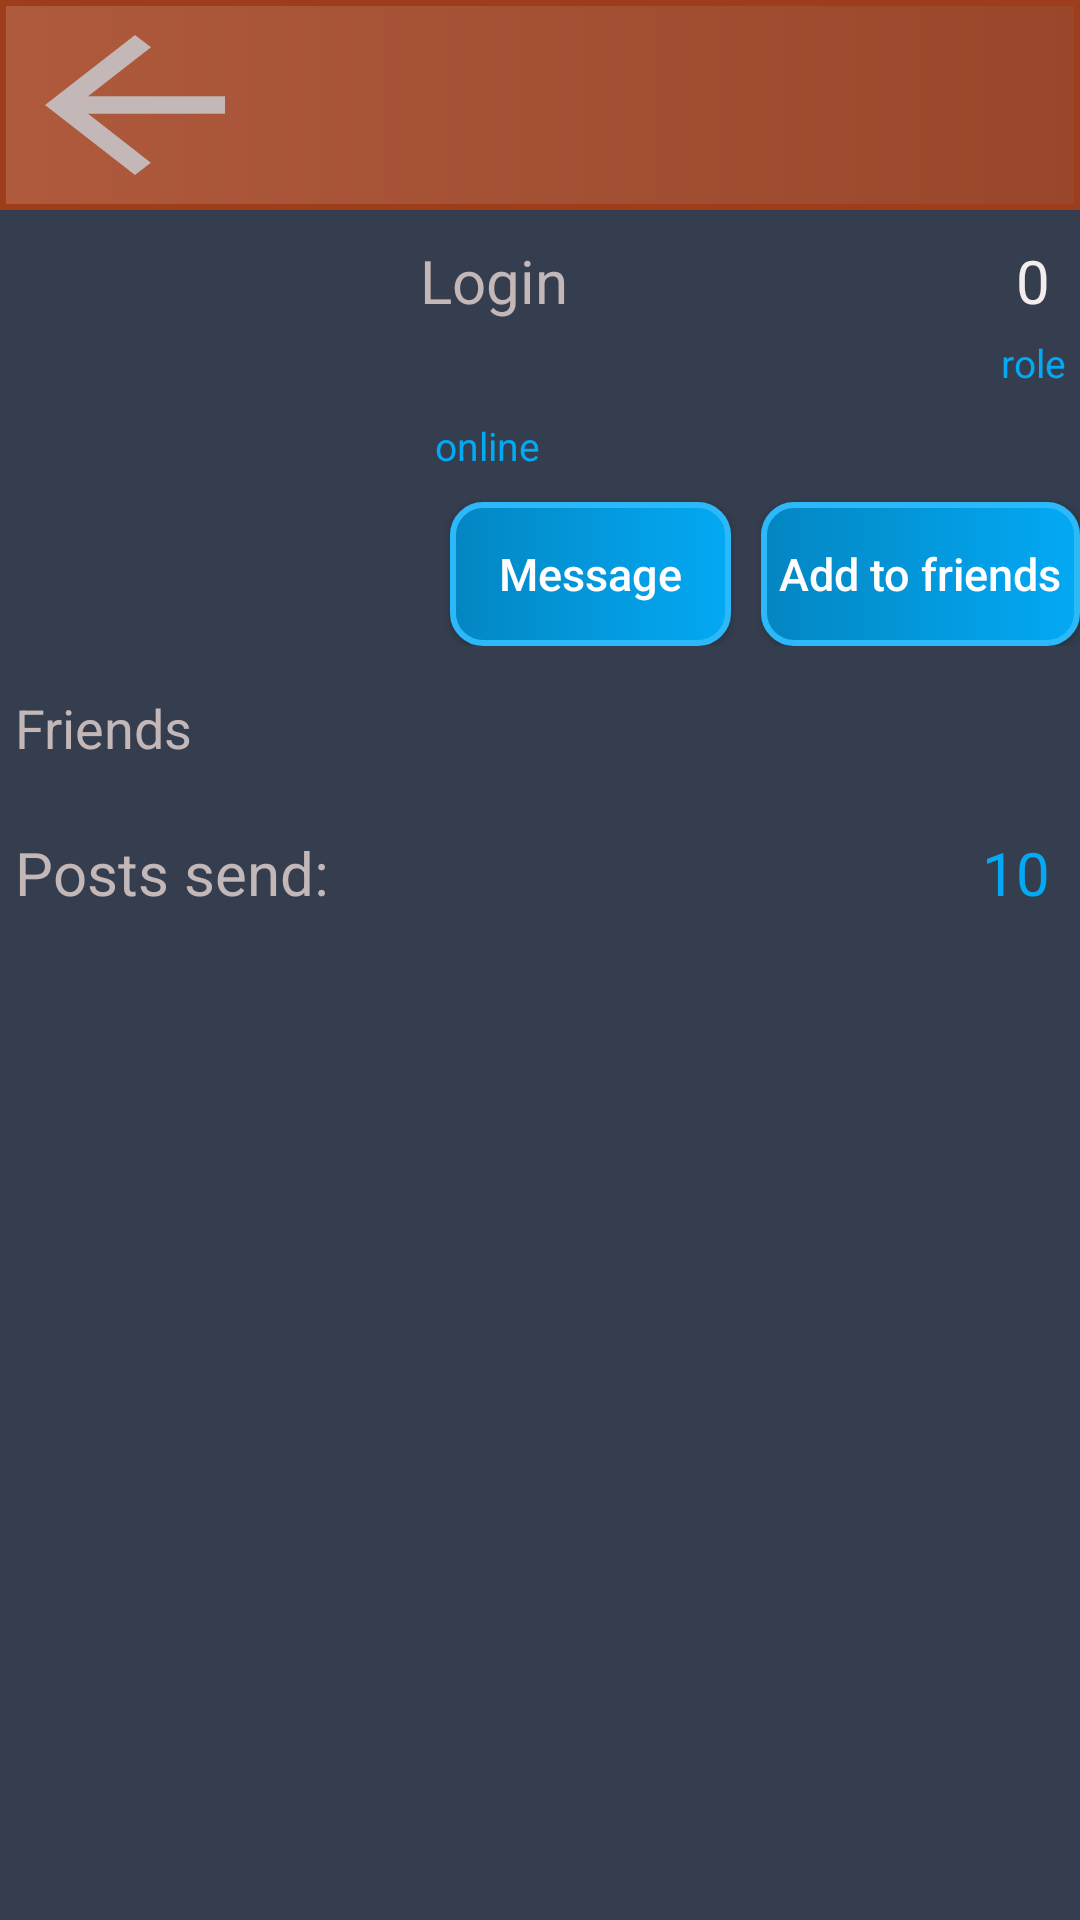

Where to tap for icons on this 1080*1920 app screen, as (x,y):
arrow back: (135,105)
